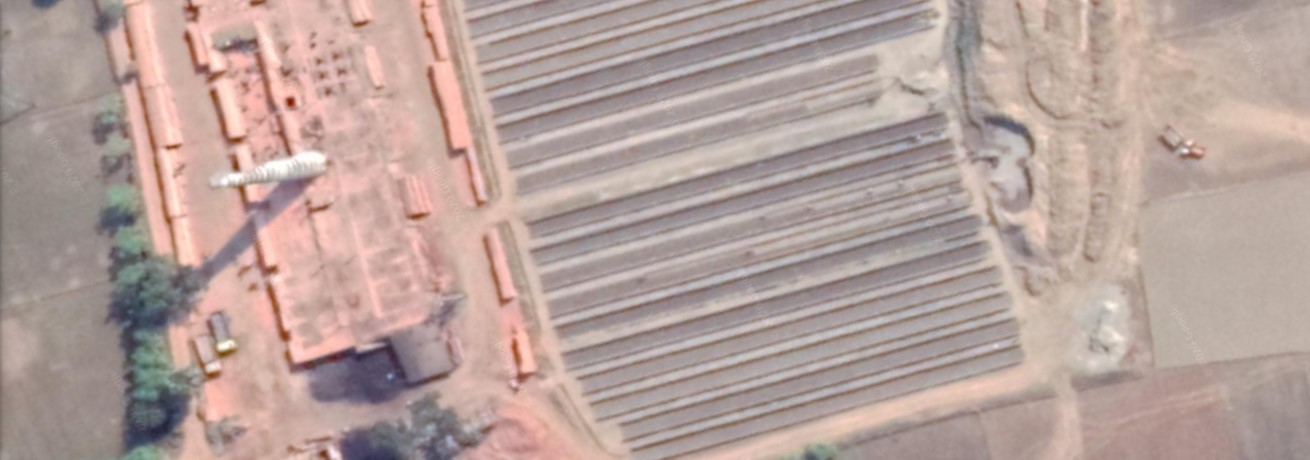kiln: (193, 12, 456, 343)
